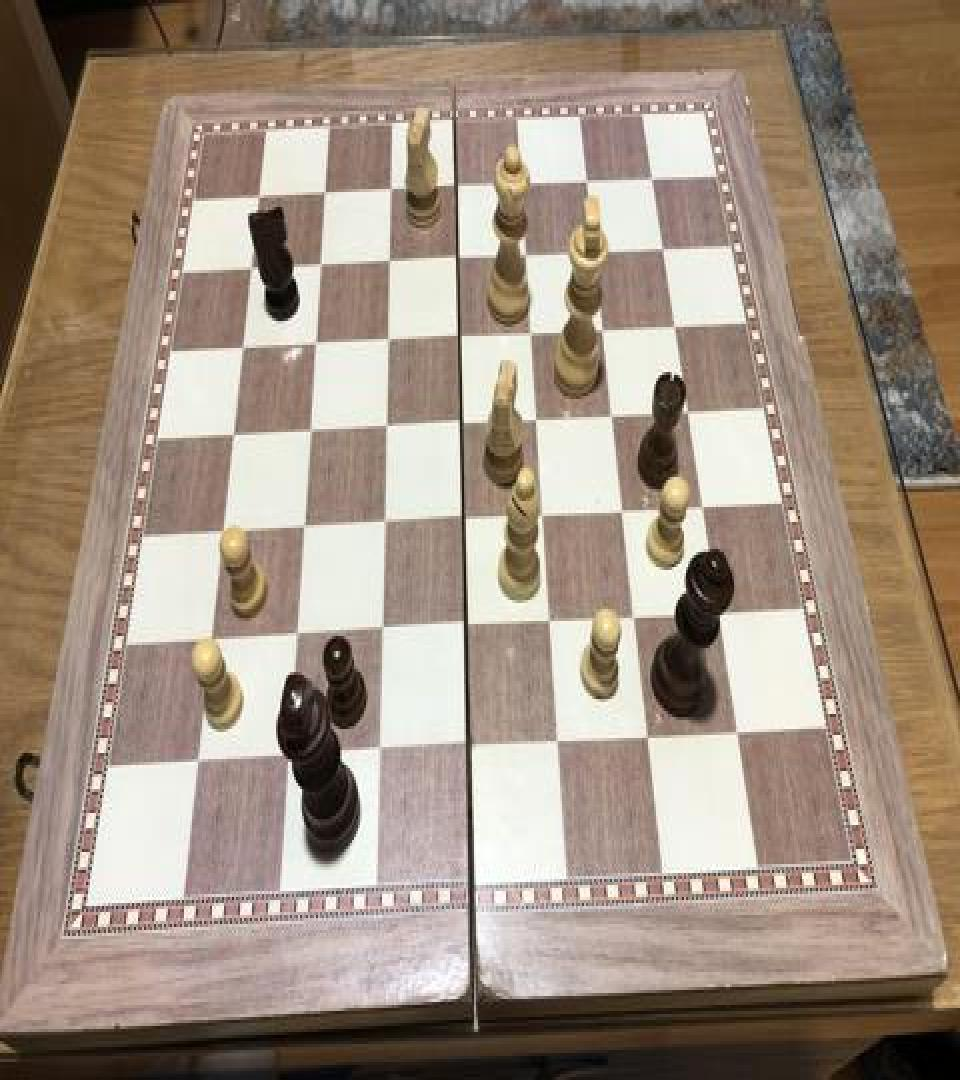xcorner: (212, 514, 236, 551), (624, 601, 648, 638), (200, 622, 224, 659), (277, 739, 301, 776), (643, 164, 667, 200), (578, 165, 602, 201), (513, 168, 537, 204), (447, 171, 471, 207), (382, 174, 406, 210), (316, 176, 340, 212), (250, 178, 274, 214), (653, 234, 677, 270), (585, 236, 609, 272), (517, 238, 541, 274), (449, 242, 473, 278), (380, 244, 404, 280), (311, 248, 335, 284), (242, 250, 266, 286), (665, 310, 689, 346), (594, 314, 618, 350), (522, 316, 546, 352), (450, 320, 474, 356), (378, 324, 402, 360), (305, 327, 329, 363), (233, 330, 257, 366), (678, 396, 702, 432), (603, 399, 627, 435), (527, 404, 551, 440), (452, 406, 476, 442), (376, 410, 400, 446), (299, 414, 323, 450), (223, 417, 247, 453), (692, 490, 716, 526), (613, 495, 637, 531), (533, 498, 557, 534), (454, 502, 478, 538), (373, 507, 397, 543), (293, 510, 317, 546), (708, 597, 732, 633), (540, 606, 564, 642), (456, 609, 480, 645), (371, 614, 395, 650), (285, 618, 309, 654), (726, 716, 750, 752), (637, 720, 661, 756), (548, 724, 572, 760), (458, 730, 482, 766), (368, 735, 392, 771), (186, 746, 210, 782)
